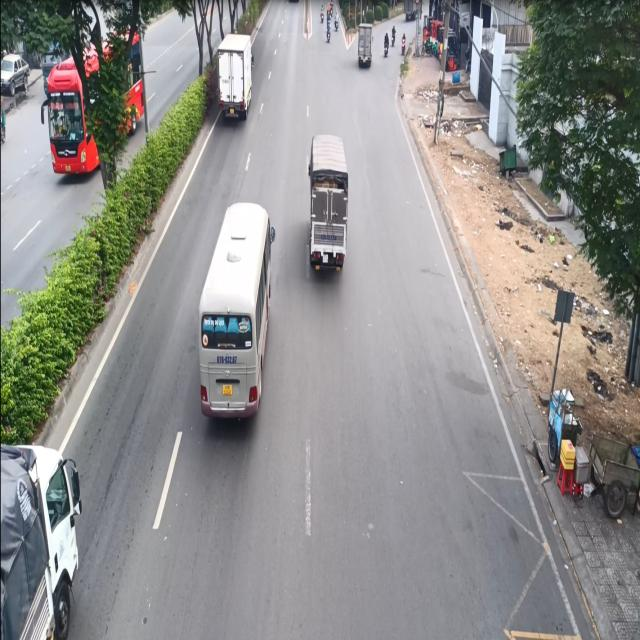bus: (196, 191, 277, 433)
truck: (307, 123, 350, 282), (214, 26, 254, 127), (353, 15, 372, 72)
